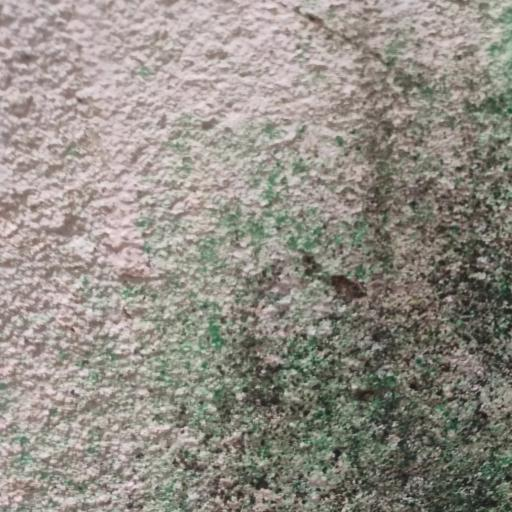algae: (148, 50, 512, 512)
